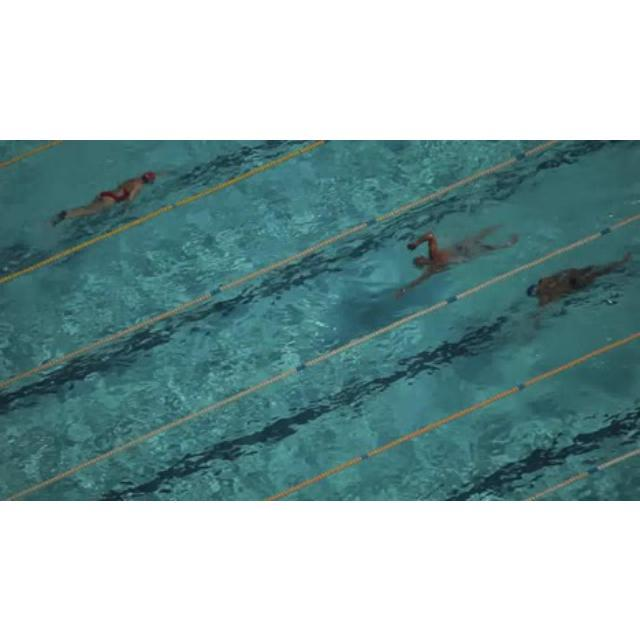human: (395, 221, 519, 300), (526, 248, 632, 308), (52, 167, 157, 225)
